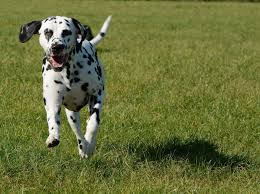dog: (16, 4, 121, 161)
